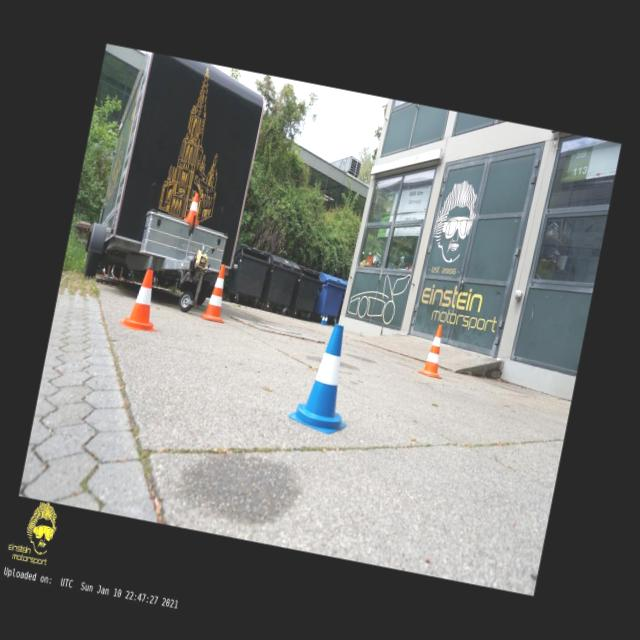blue_cone: (286, 318, 365, 438), (320, 314, 326, 324), (324, 314, 329, 326)
large_orange_cone: (198, 262, 234, 323), (417, 322, 451, 380)
orange_cone: (118, 266, 168, 334), (183, 192, 204, 226)
